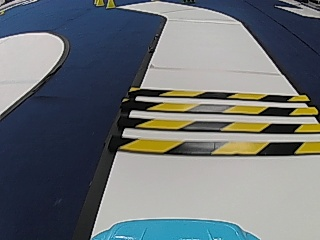bump: (105, 83, 319, 164)
